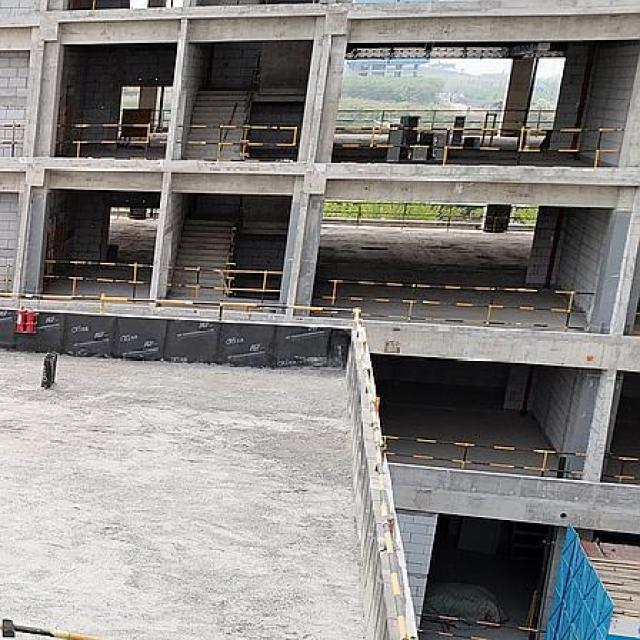edge_guardrail: (0, 288, 414, 640), (309, 268, 596, 332), (330, 127, 626, 170), (380, 433, 590, 478), (175, 118, 308, 168), (321, 198, 488, 233), (164, 265, 284, 304), (39, 258, 155, 298), (53, 123, 174, 161), (417, 610, 547, 640), (333, 107, 504, 129), (601, 453, 640, 484), (526, 108, 556, 128)
